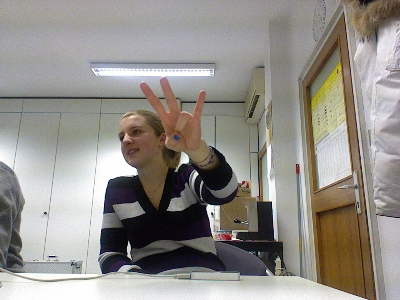观音: (138, 75, 206, 154)
